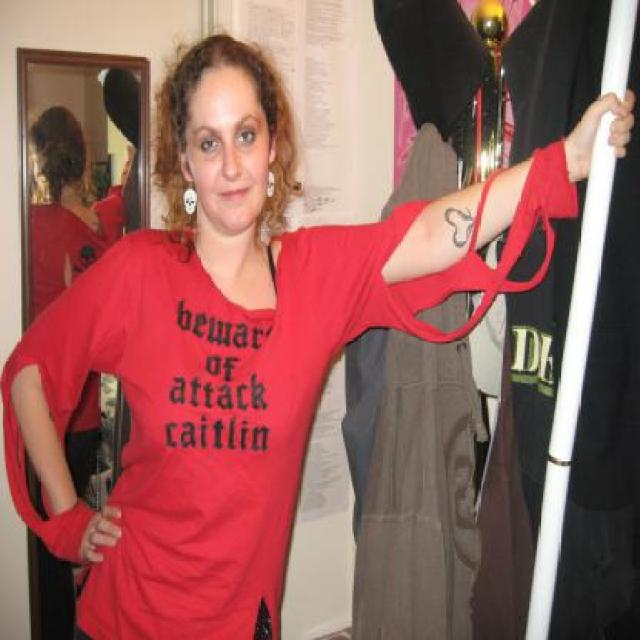Person: (0, 20, 635, 639)
